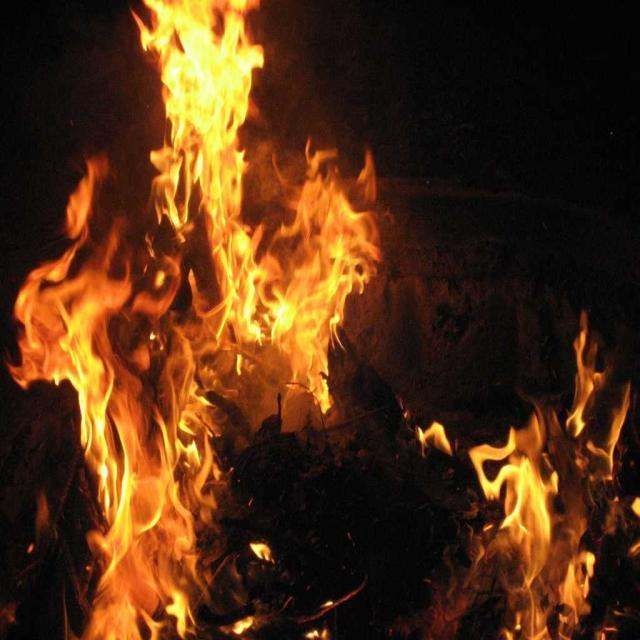Fire: (96, 428, 172, 587), (232, 275, 332, 342), (30, 294, 99, 374), (190, 45, 235, 140)
